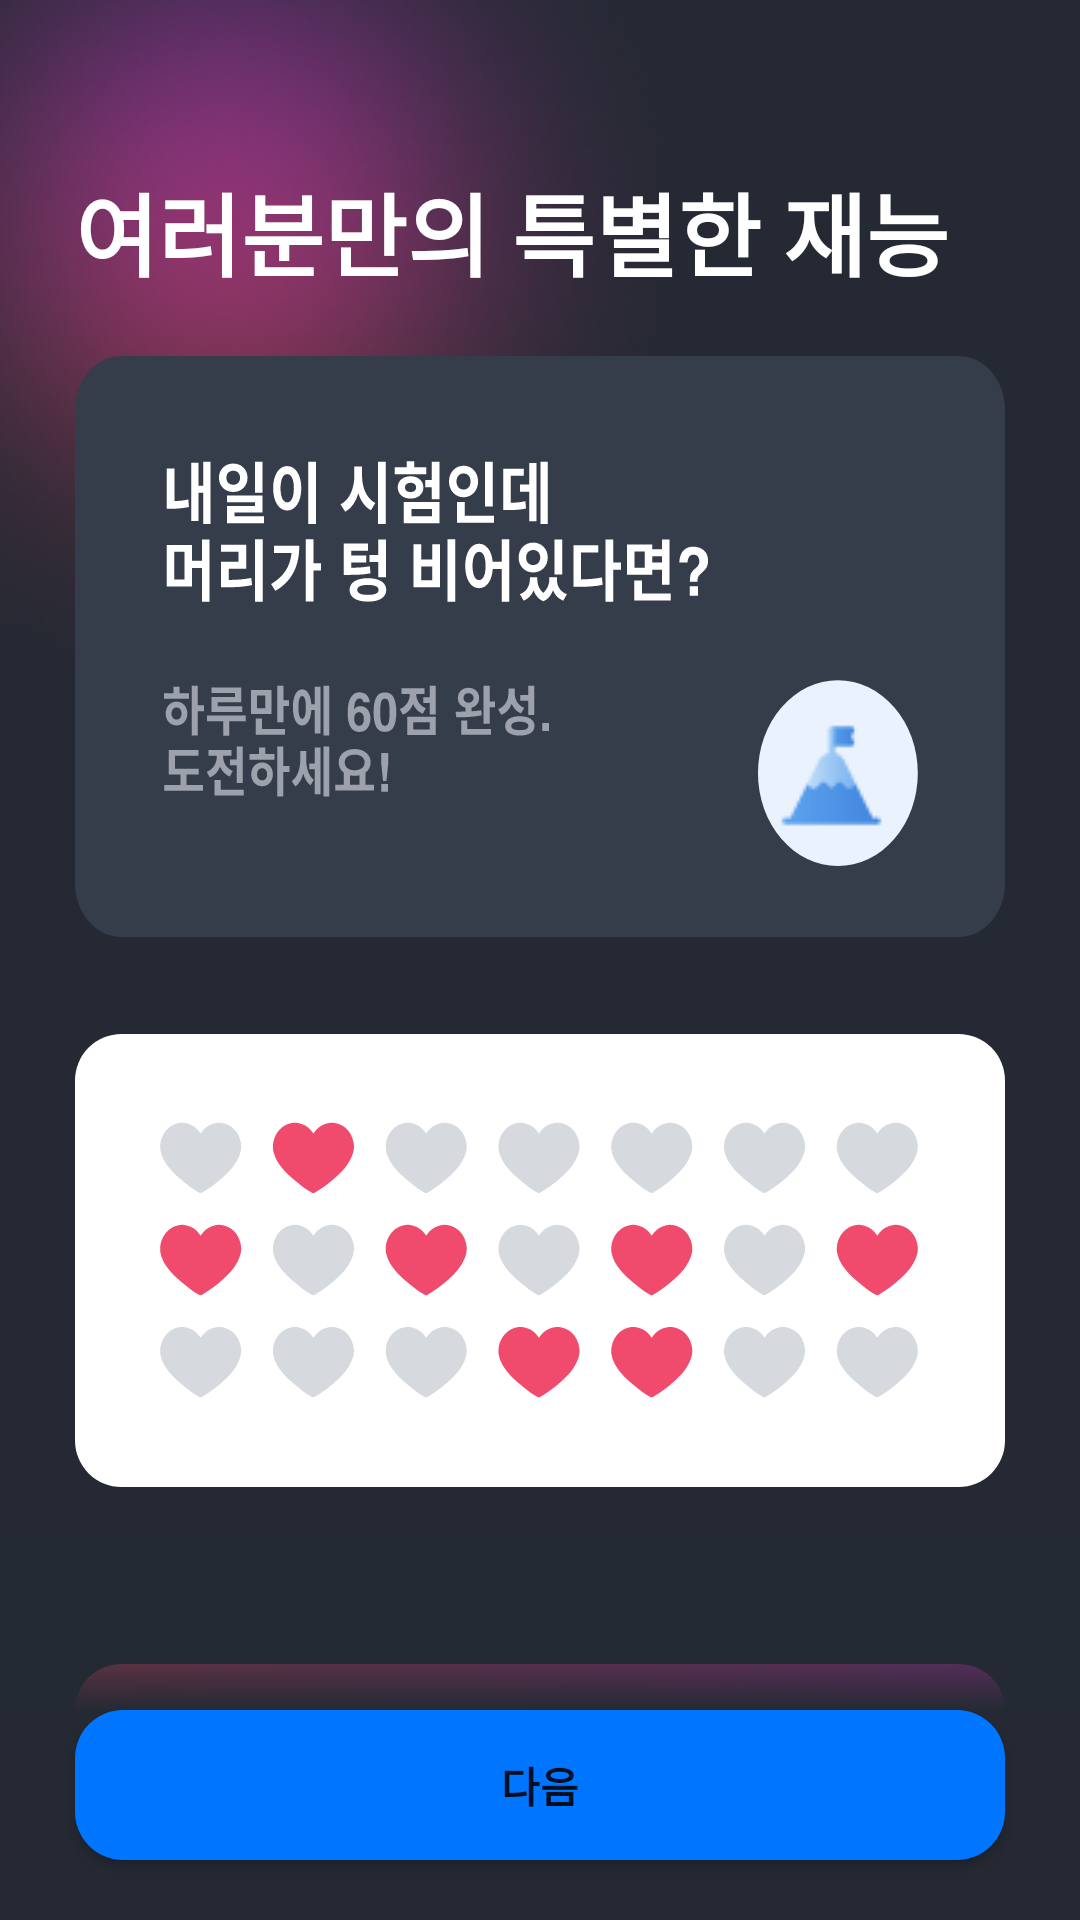

Named icons in this screenshot (1080px×1920px) and their centers, (x,y):
mountain: (831,775)
